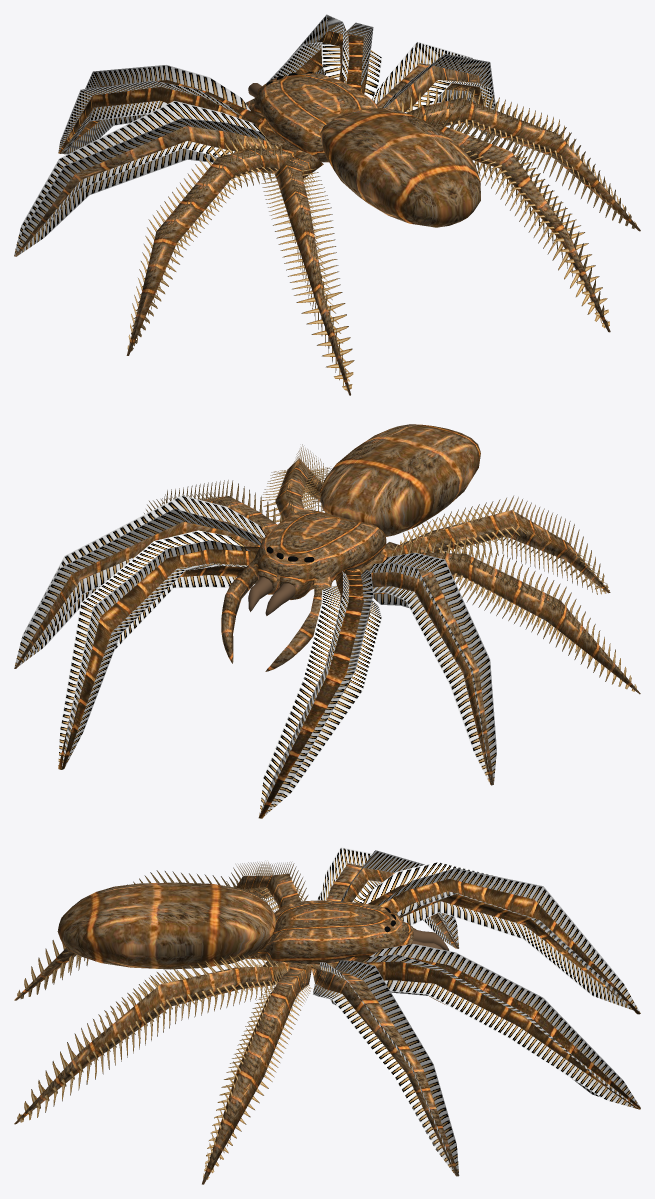
The model's file is Only_Spider_with_Animations_Export.obj.
3 views of the same model, one above another, from view 1: azimuth 30°, elevation 25°; view 2: azimuth 150°, elevation 25°; view 3: azimuth 270°, elevation 25° (orthographic). The views are drawn at different scales.
Parts seen in each view (by area): view 1: Spider_Spider.005, Spider_Fur_Spider; view 2: Spider_Spider.005, Spider_Fur_Spider, Spider_teeth_Spider.004; view 3: Spider_Spider.005, Spider_Fur_Spider, Spider_teeth_Spider.004.
Boxes of the visible parts, <box> form: Spider_Spider.005: <box>14,31,640,395</box>; Spider_Fur_Spider: <box>14,14,636,391</box>; Spider_Spider.005: <box>14,424,640,818</box>; Spider_Fur_Spider: <box>14,444,636,817</box>; Spider_teeth_Spider.004: <box>248,577,295,615</box>; Spider_Spider.005: <box>14,863,640,1184</box>; Spider_Fur_Spider: <box>17,847,640,1179</box>; Spider_teeth_Spider.004: <box>412,929,449,950</box>.
Size of the model in its own units: 184 by 59.43 by 199.
6 materials, 4 textured.
